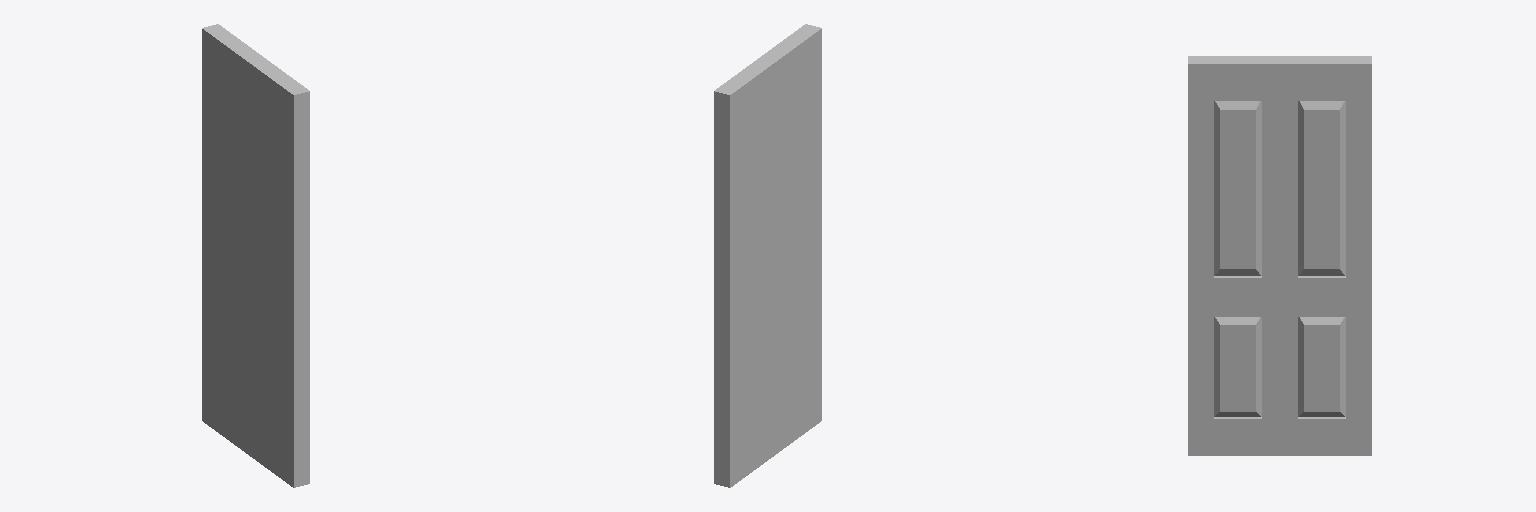
Rendered from puerta.obj.
3 views of the same model, side by side, from view 1: azimuth 30°, elevation 25°; view 2: azimuth 150°, elevation 25°; view 3: azimuth 270°, elevation 25° (orthographic).
Visible parts, largest first — view 1: Puerta_Cube.001; view 2: Puerta_Cube.001; view 3: Puerta_Cube.001.
Boxes of the visible parts, box(x1,y1,x2,y2) form: Puerta_Cube.001: box(202, 24, 309, 487); Puerta_Cube.001: box(714, 24, 821, 487); Puerta_Cube.001: box(1188, 56, 1371, 455).
Bounding box in the file's own units: 0.34 × 7.63 × 3.23.